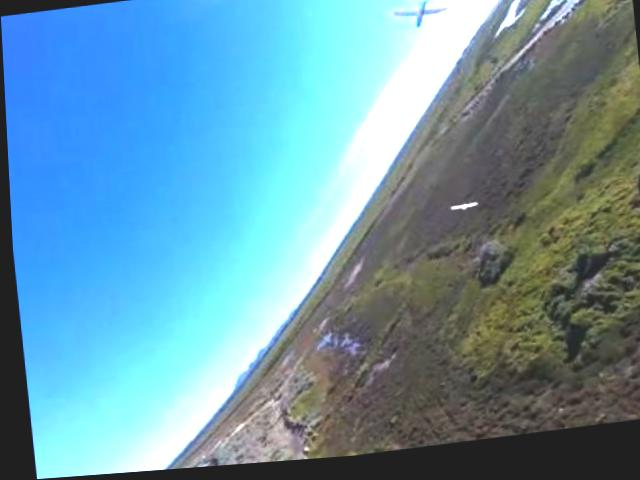uav: (387, 2, 450, 36), (443, 202, 477, 222)
